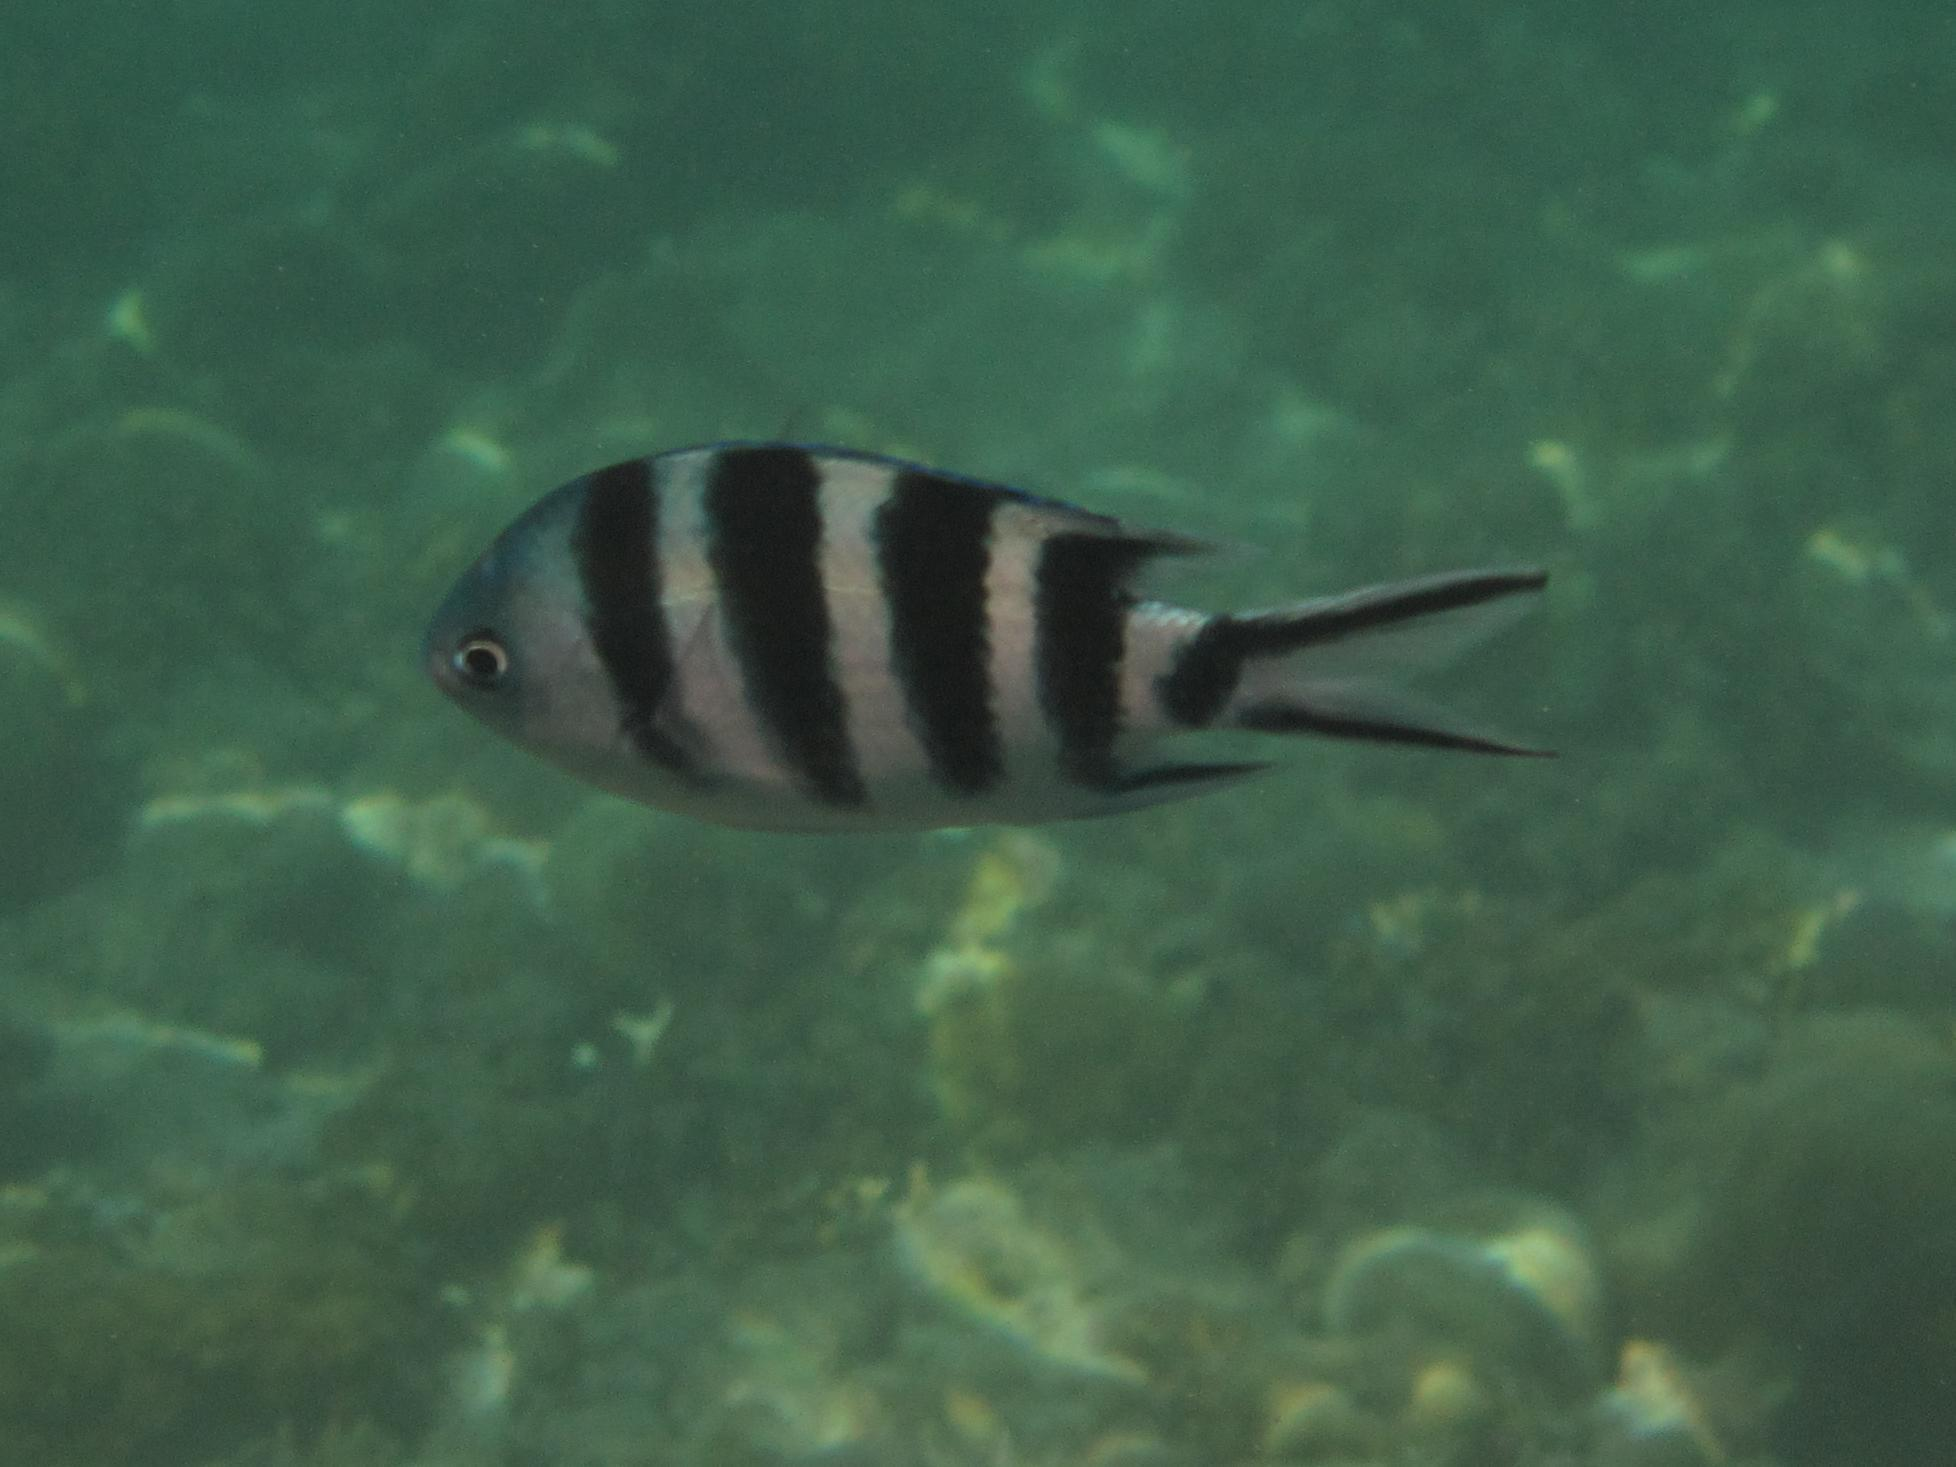Fish: (296, 341, 1640, 1003)
